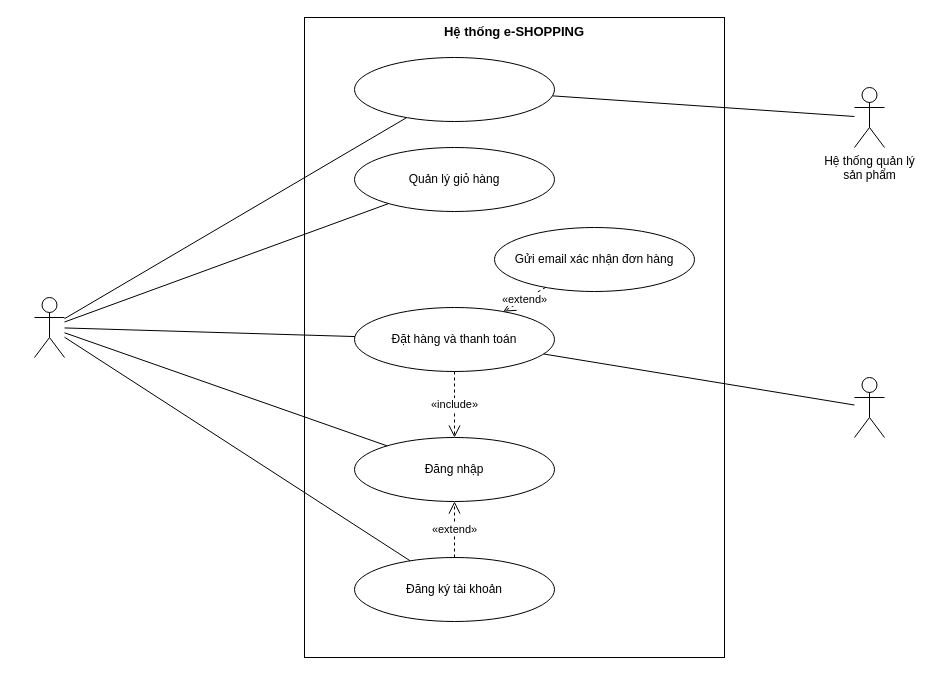
Image size: 941x675. Some labels were removed from this diagram. Here are the shapes that lost their labels. From the top down, the centre of each, then its label:
At pixel 454 89: "Xem sản phẩm".
At pixel 49 327: "Khách hàng".
At pixel 869 407: "Hệ thống thanh toán trực tuyến".
